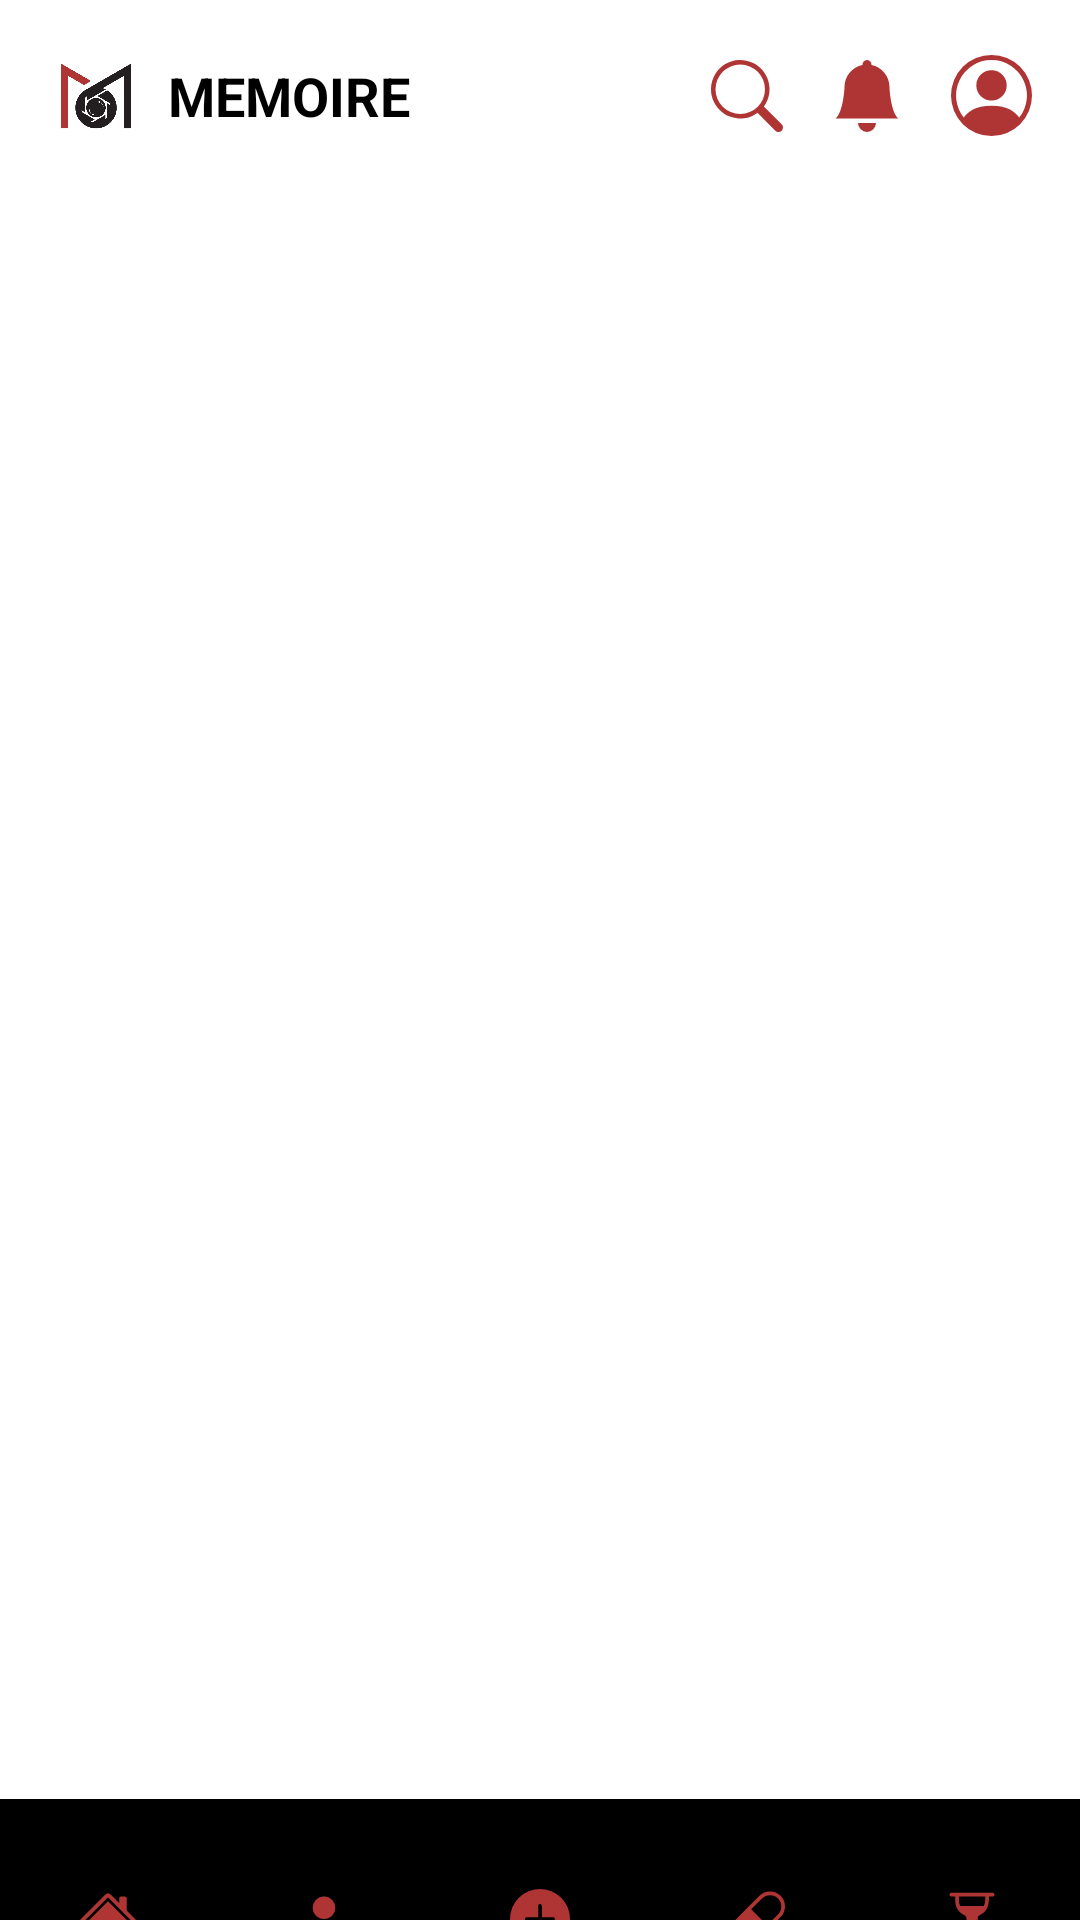

Point at icon controls on the screen. Image size 1080*1920, points as (x,y).
Notifications: (867,96)
Search: (747,96)
